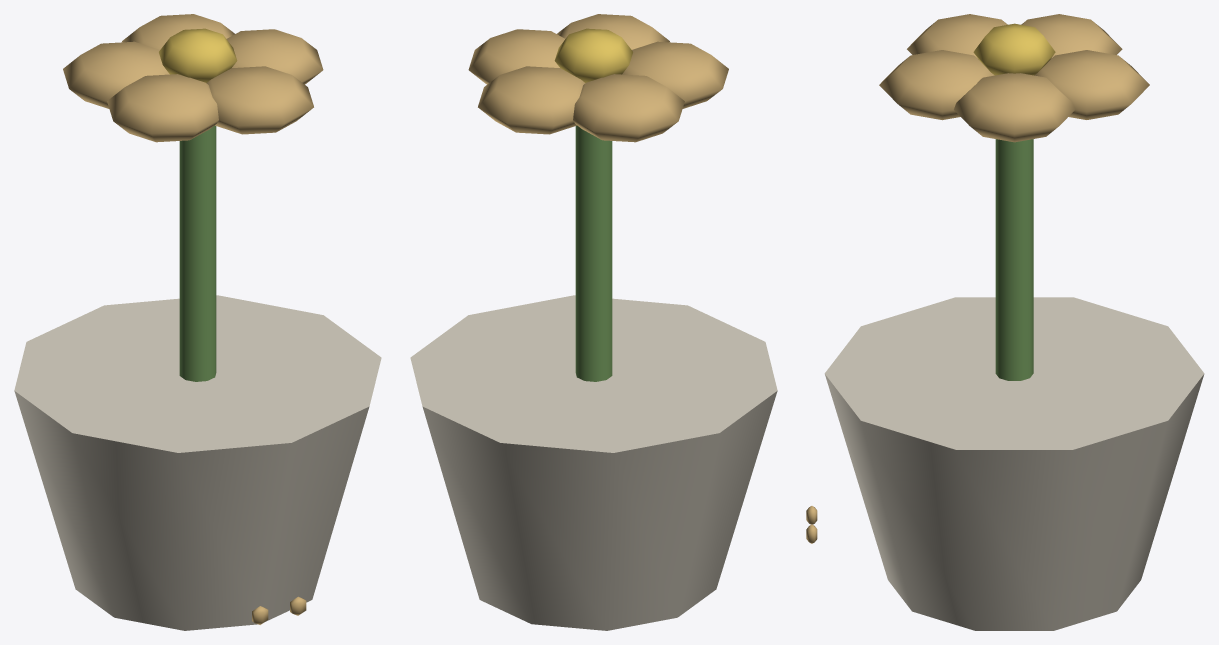
3 renders of one model, left to right at view 1: azimuth 30°, elevation 25°; view 2: azimuth 150°, elevation 25°; view 3: azimuth 270°, elevation 25°, orthographic.
Visible parts, largest first — view 1: st02; view 2: st02; view 3: st02.
Part boxes in pixels (left/top/right/bottom): st02: left=14, top=14, right=381, bottom=630; st02: left=410, top=14, right=777, bottom=630; st02: left=806, top=14, right=1204, bottom=630.
Bounding box in the file's own units: 0.2853 × 0.48 × 0.3143.
